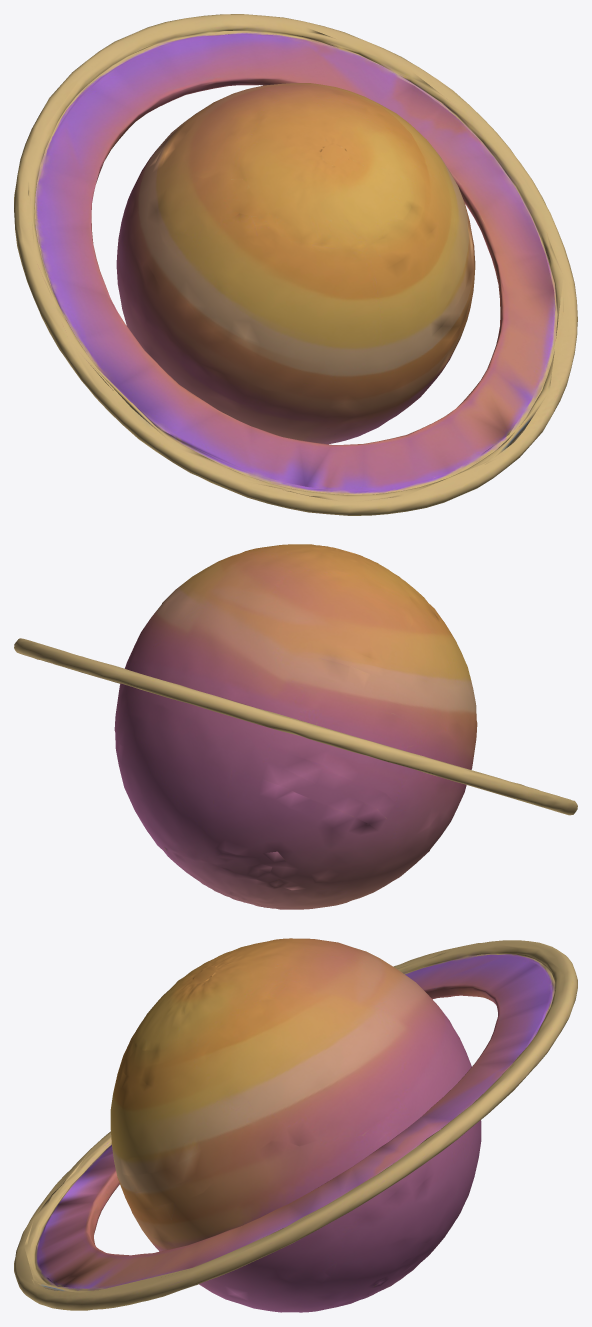
The model's file is r33-saturn.glb.
The picture shows the model from 3 angles, top to bottom: view 1: azimuth 30°, elevation 25°; view 2: azimuth 150°, elevation 25°; view 3: azimuth 270°, elevation 25°; orthographic projection. The views are drawn at different scales.
Parts seen in each view (by area): view 1: tripo_node_8c304001-99f2-41c7-ad17-bb4a450554aa; view 2: tripo_node_8c304001-99f2-41c7-ad17-bb4a450554aa; view 3: tripo_node_8c304001-99f2-41c7-ad17-bb4a450554aa.
Part boxes in pixels (<box>): tripo_node_8c304001-99f2-41c7-ad17-bb4a450554aa: <box>14,14,577,515</box>; tripo_node_8c304001-99f2-41c7-ad17-bb4a450554aa: <box>14,544,577,909</box>; tripo_node_8c304001-99f2-41c7-ad17-bb4a450554aa: <box>14,938,577,1312</box>.
Bounding box in the file's own units: 0.998 × 0.6465 × 0.9785.
1 material, 1 textured.
